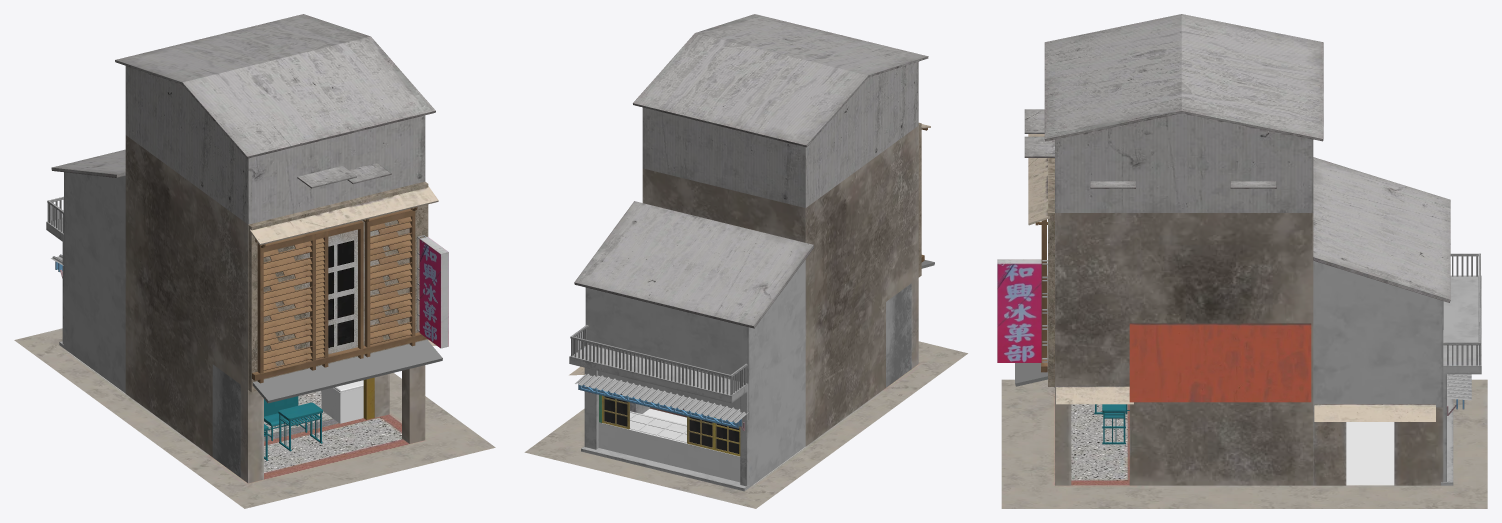
The model's file is jingliao-hexing.glb.
3 renders of one model, left to right at view 1: azimuth 30°, elevation 25°; view 2: azimuth 150°, elevation 25°; view 3: azimuth 270°, elevation 25°, orthographic. The views are drawn at different scales.
Visible parts, largest first — view 1: HexingBingguo; view 2: HexingBingguo; view 3: HexingBingguo.
Boxes of the visible parts, left/top/right/bottom form: HexingBingguo: left=14, top=14, right=495, bottom=508; HexingBingguo: left=524, top=14, right=967, bottom=508; HexingBingguo: left=997, top=14, right=1487, bottom=508.
Bounding box in the file's own units: 8.7 × 11.94 × 13.96.
Materials: 3 (3 with a texture image).
